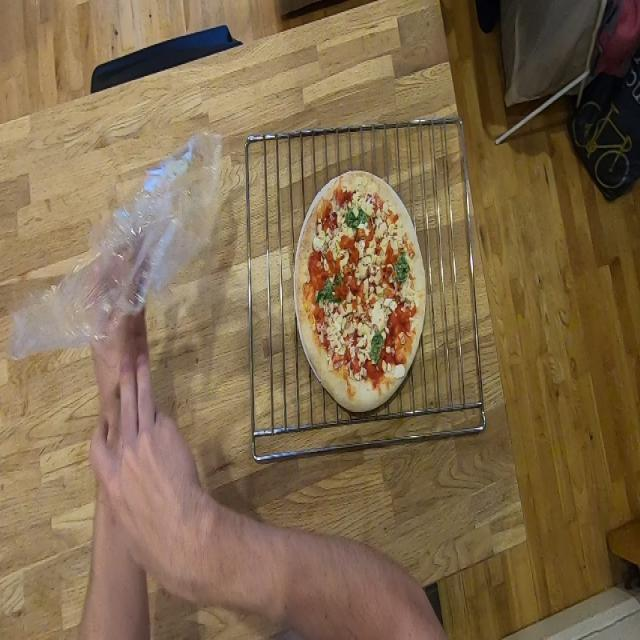pizza: (288, 165, 438, 417)
right hand: (84, 368, 220, 590)
